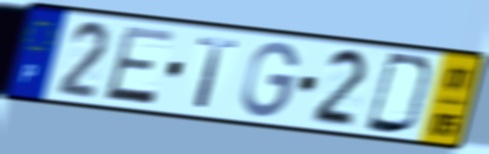2: (309, 46, 372, 133), (55, 19, 112, 102)
D: (362, 49, 437, 138)
E: (100, 23, 178, 108)
G: (239, 40, 302, 120)
T: (192, 35, 242, 112)
